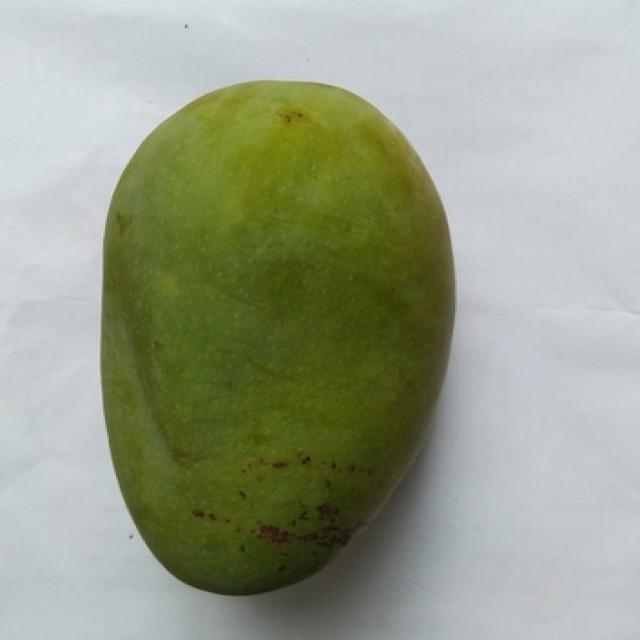Mango: (103, 82, 453, 593)
